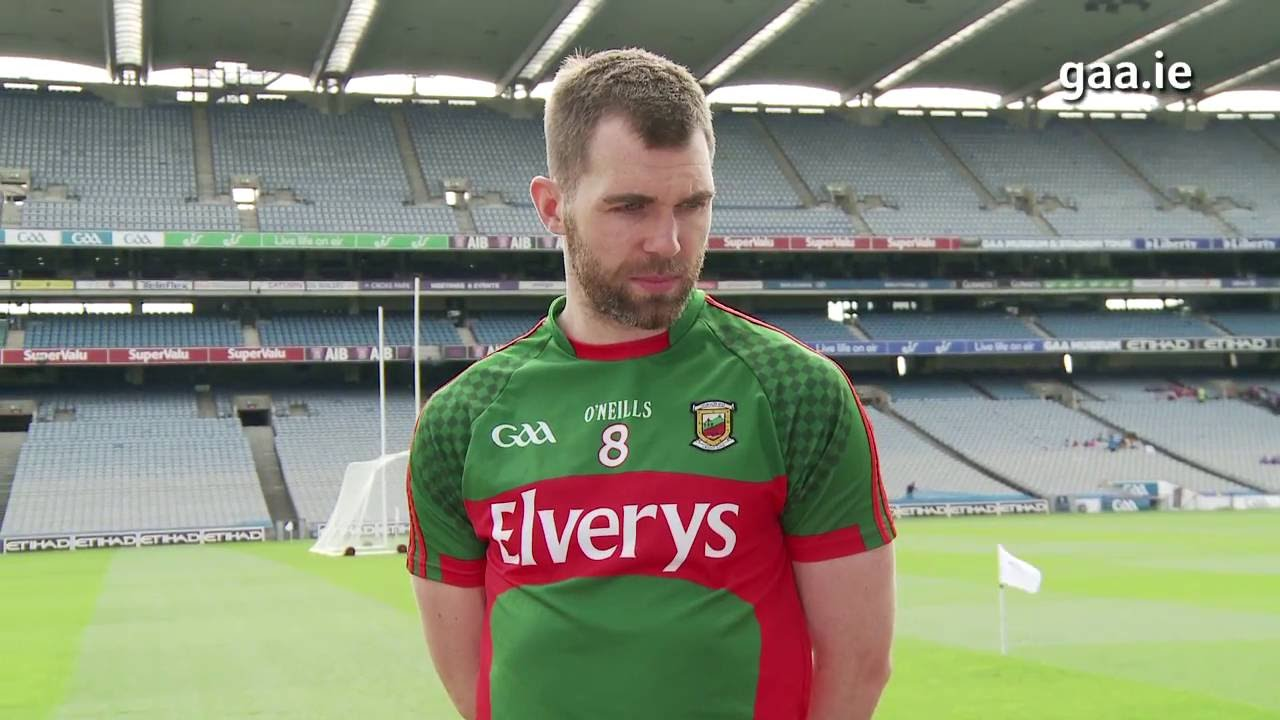player: (402, 33, 883, 709)
